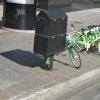Bicycle: (67, 18, 99, 73)
